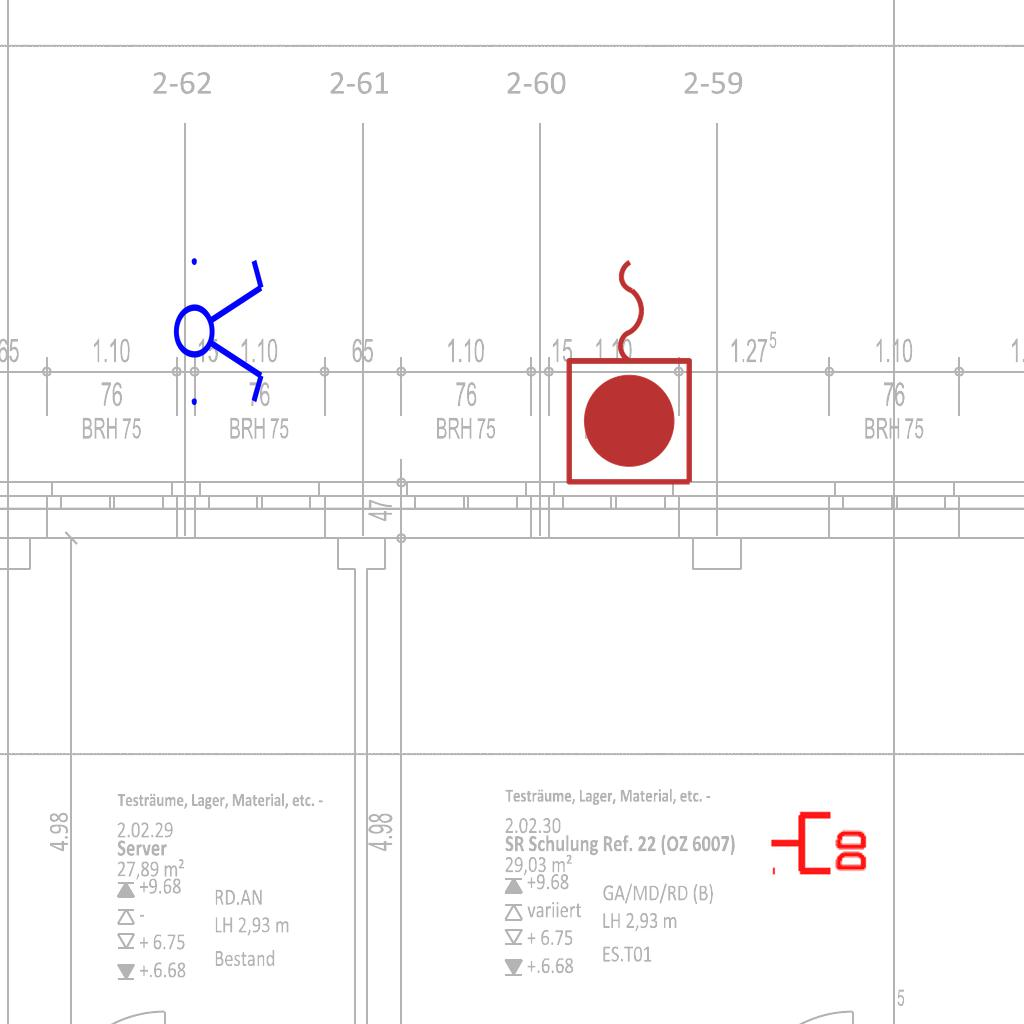Datenanschluss_zweifach: (768, 807, 871, 876)
Serienschalter: (172, 246, 268, 414)
Zugtaster: (559, 249, 703, 493)
